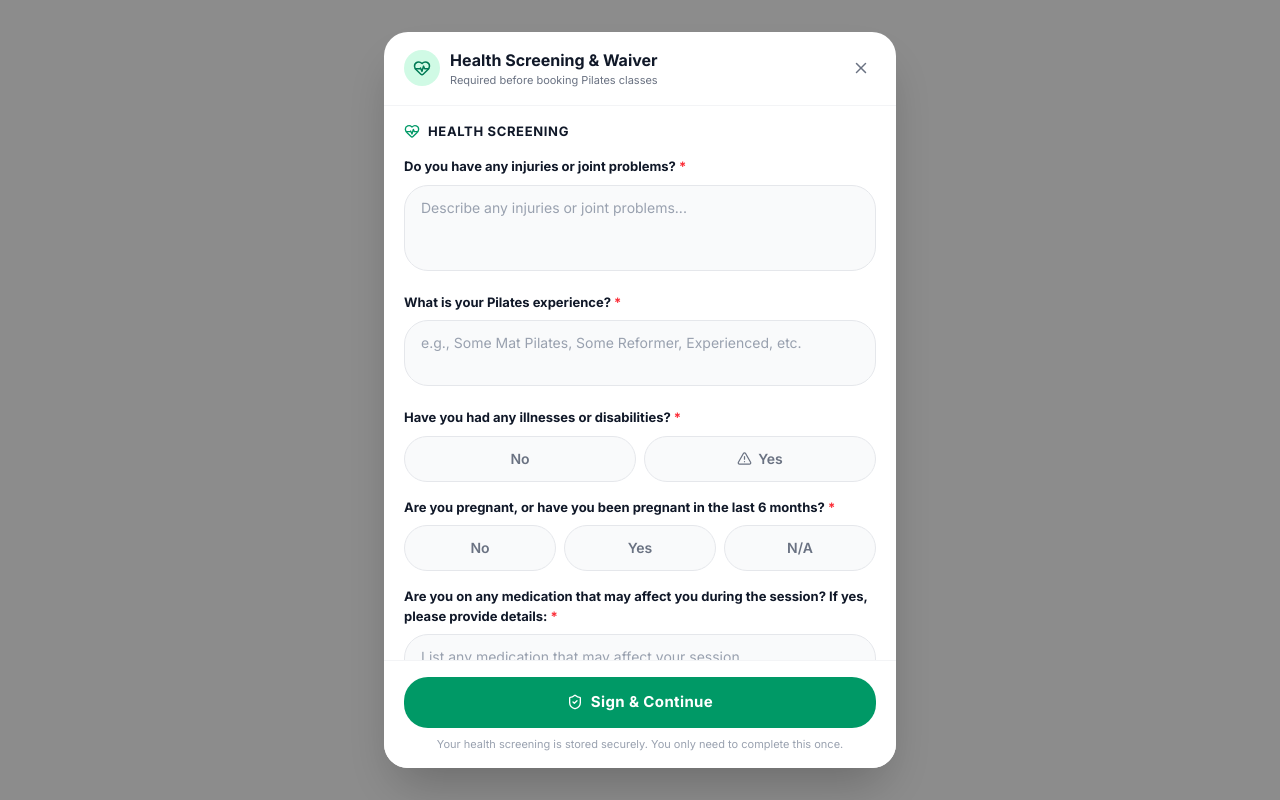
Test: PilatesWaiverFormSheet › shows validation errors on submit with empty fields
Click the button "Sign & Continue" at (640, 702), box [404,677,876,728]
(page scrolled)
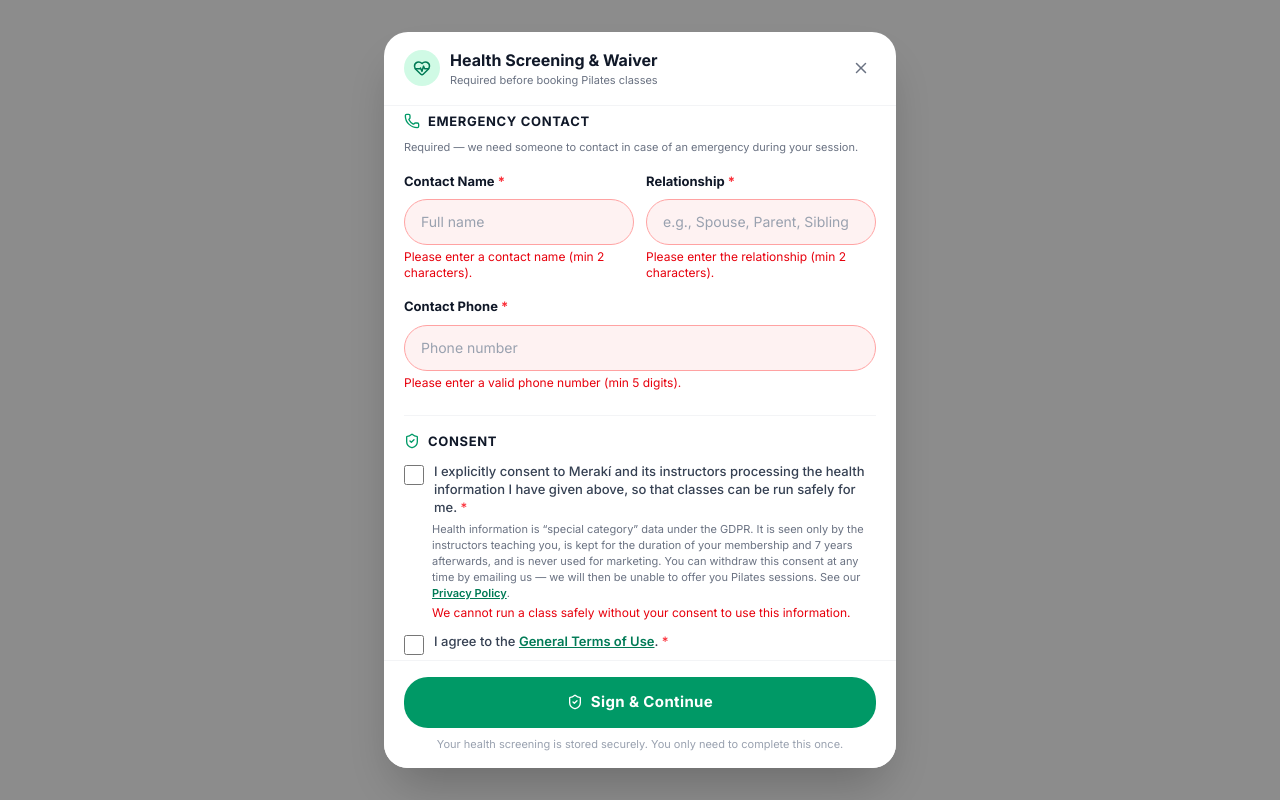
expect the text "Please enter a contact name (min 2 characters)." is shown: met, box [404,249,634,281]
expect the text "Please enter the relationship (min 2 characters)." is shown: met, box [646,249,876,281]
expect the text "Please enter a valid phone number (min 5 digits)." is shown: met, box [404,374,681,390]
